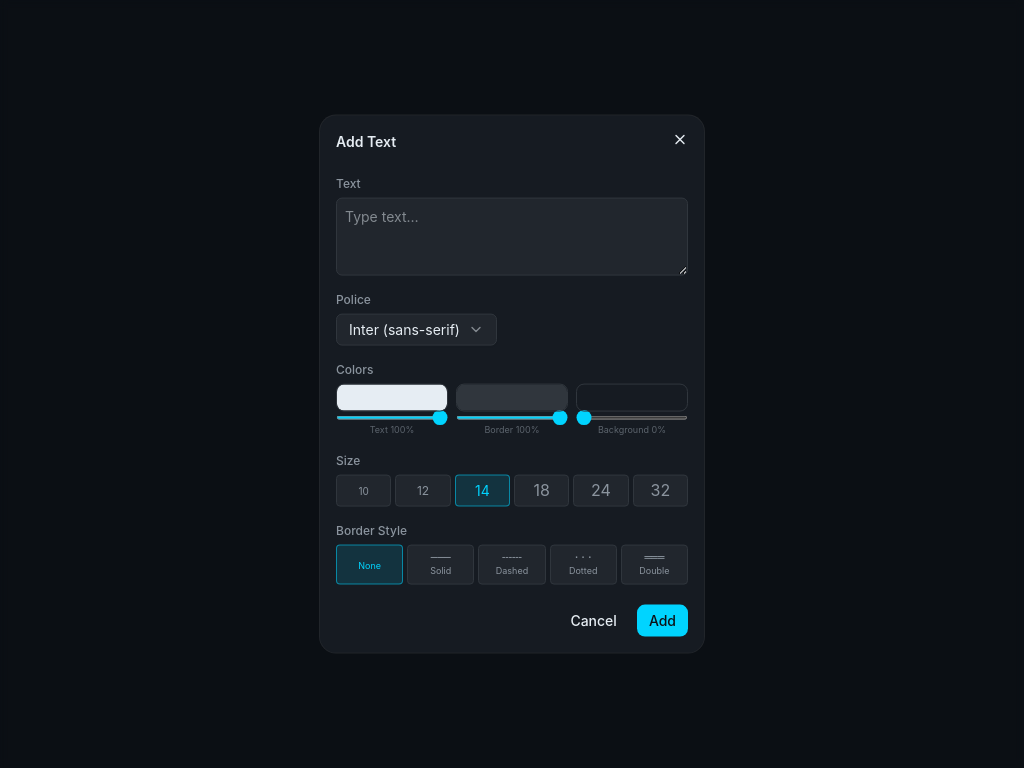
Scenario: TextModal › hides Border Width when style is none, shows when not
Expected: the text "Border Width" is not shown
What coordinates should you click on to do the following:
click the button titled "Solid"
I would click on:
 (441, 564)
Its box is x1=407 y1=544 x2=474 y2=584.
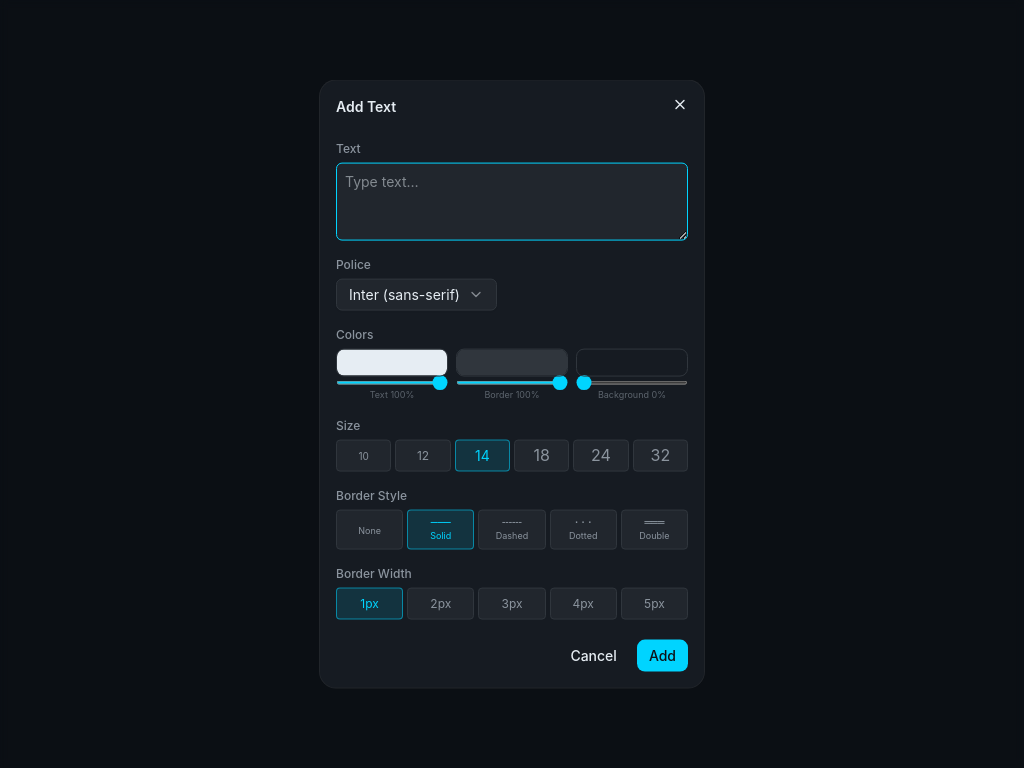
Expected: the text "Border Width" is shown, x1=336 y1=565 x2=412 y2=580
